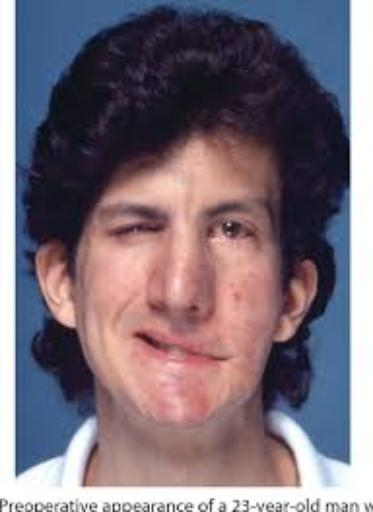left_eye: (209, 218, 258, 245)
left_lip_corner: (211, 349, 236, 368)
right_eye: (108, 218, 168, 243)
right_lip_corner: (125, 326, 151, 350)
